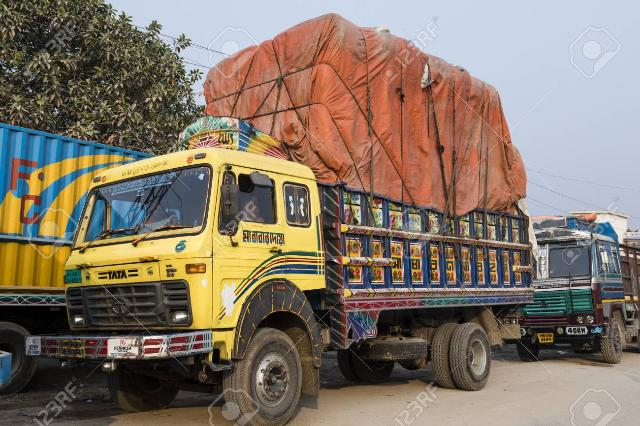truck: (64, 9, 537, 426), (530, 206, 640, 364)
